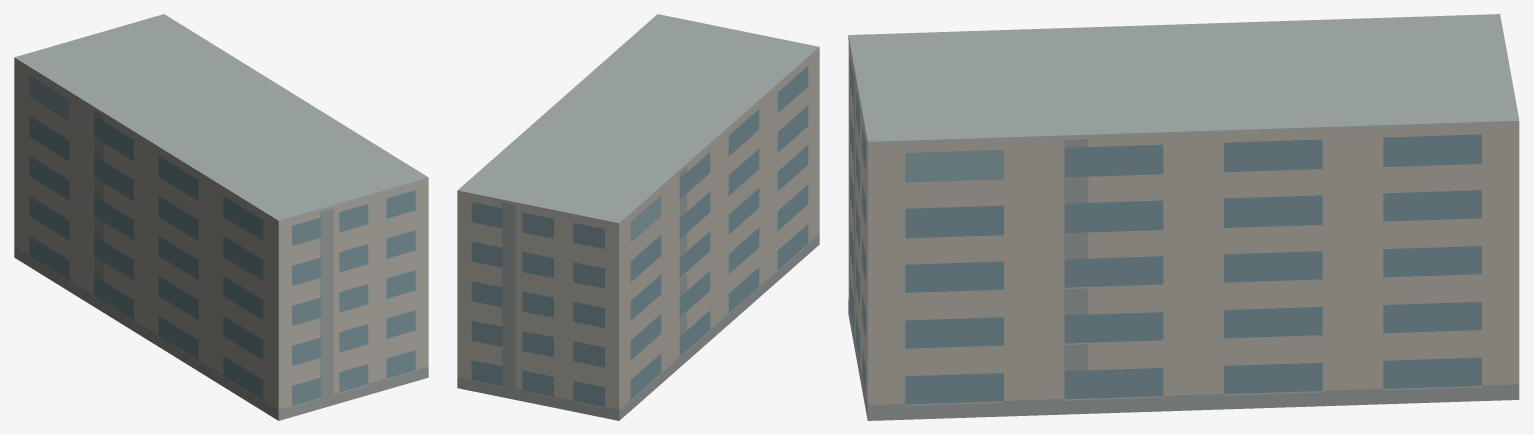
Rendered from residential-71868c3b-236b-4d1f-ba33-11f0e86dd074.glb.
The picture shows the model from 3 angles, left to right: view 1: azimuth 30°, elevation 25°; view 2: azimuth 150°, elevation 25°; view 3: azimuth 270°, elevation 25°; orthographic projection. The views are drawn at different scales.
Parts seen in each view (by area): view 1: residential-71868c3b-236b-4d1f-ba33-11f0e86dd074.tmp; view 2: residential-71868c3b-236b-4d1f-ba33-11f0e86dd074.tmp; view 3: residential-71868c3b-236b-4d1f-ba33-11f0e86dd074.tmp.
Part boxes in pixels (bbox=[...]): residential-71868c3b-236b-4d1f-ba33-11f0e86dd074.tmp: bbox=[14, 14, 428, 420]; residential-71868c3b-236b-4d1f-ba33-11f0e86dd074.tmp: bbox=[457, 14, 819, 420]; residential-71868c3b-236b-4d1f-ba33-11f0e86dd074.tmp: bbox=[848, 14, 1519, 420].
Size of the model in its own units: 14.99 by 15.25 by 33.24.
